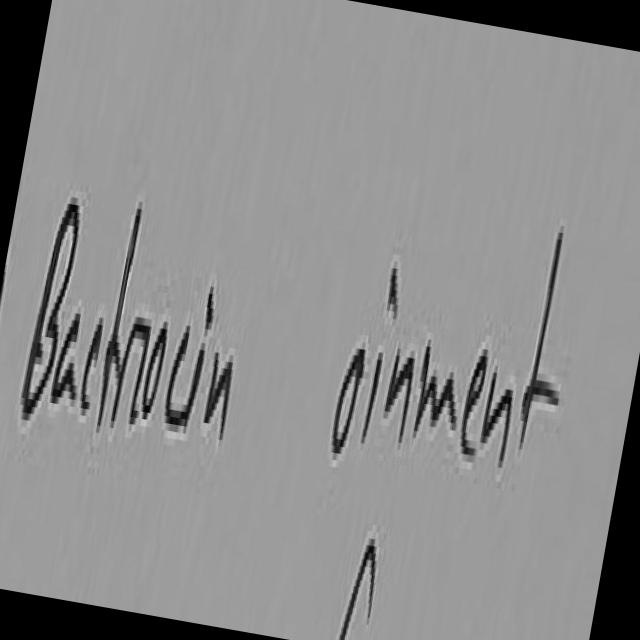B: (21, 198, 79, 417)
a: (51, 308, 82, 411)
c: (165, 326, 189, 423), (81, 317, 102, 415)
i: (186, 343, 205, 426), (205, 286, 214, 336)
n: (205, 356, 233, 436)
o: (142, 321, 167, 419)
r: (111, 316, 150, 428)
t: (96, 202, 141, 429)
